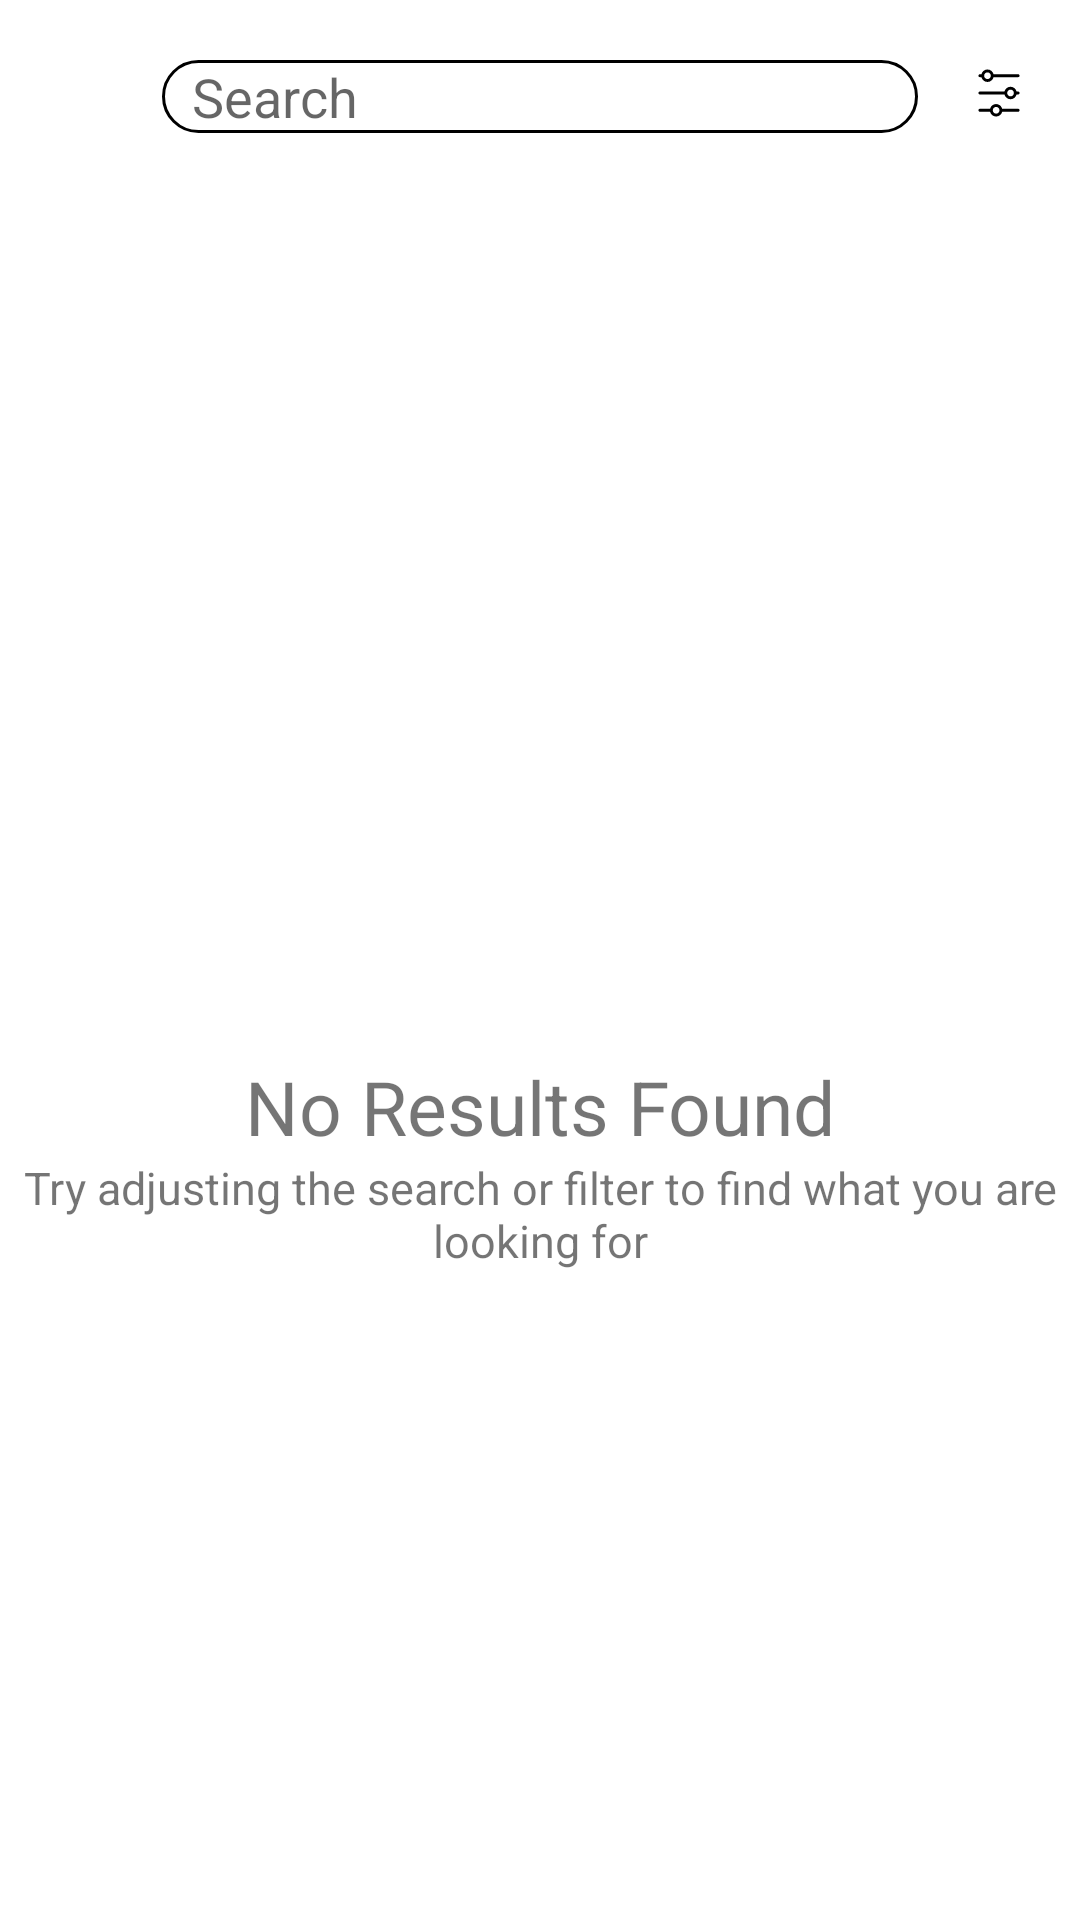

Named icons in this screenshot (1080*1920) and their bounding boxes, detection(x1, y1, x2, y2):
noun filter: detection(978, 69, 1020, 117)
